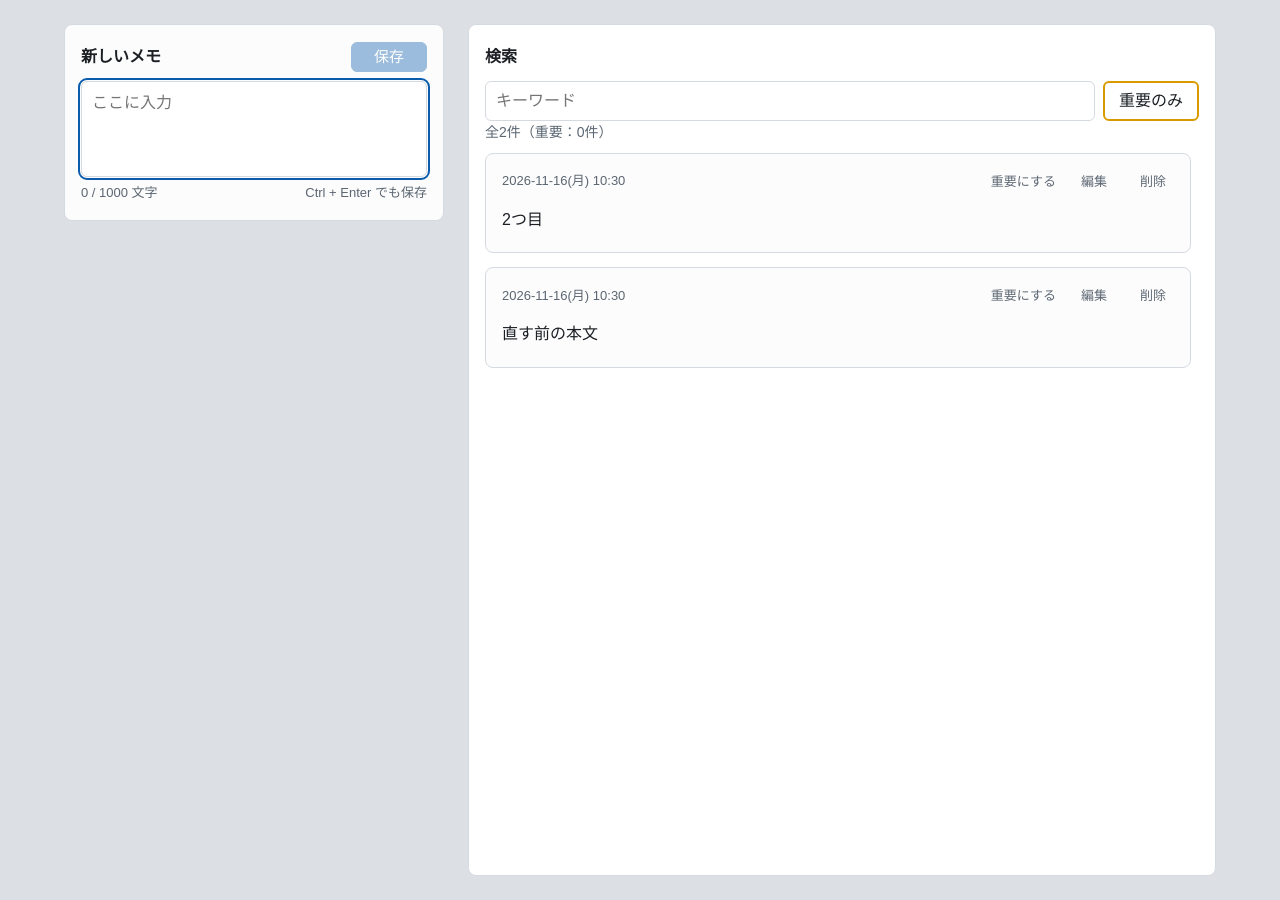
編集（F4） › 「編集」を押すとその場で入力欄になり、「保存」で本文が変わる（前後の空白は取り除く）
Expected: the text "直す前の本文" is shown, left=502, top=325, right=598, bottom=342
Step 1. Click the 2nd button "編集" → point(1094, 296), box left=1070, top=283, right=1118, bottom=309
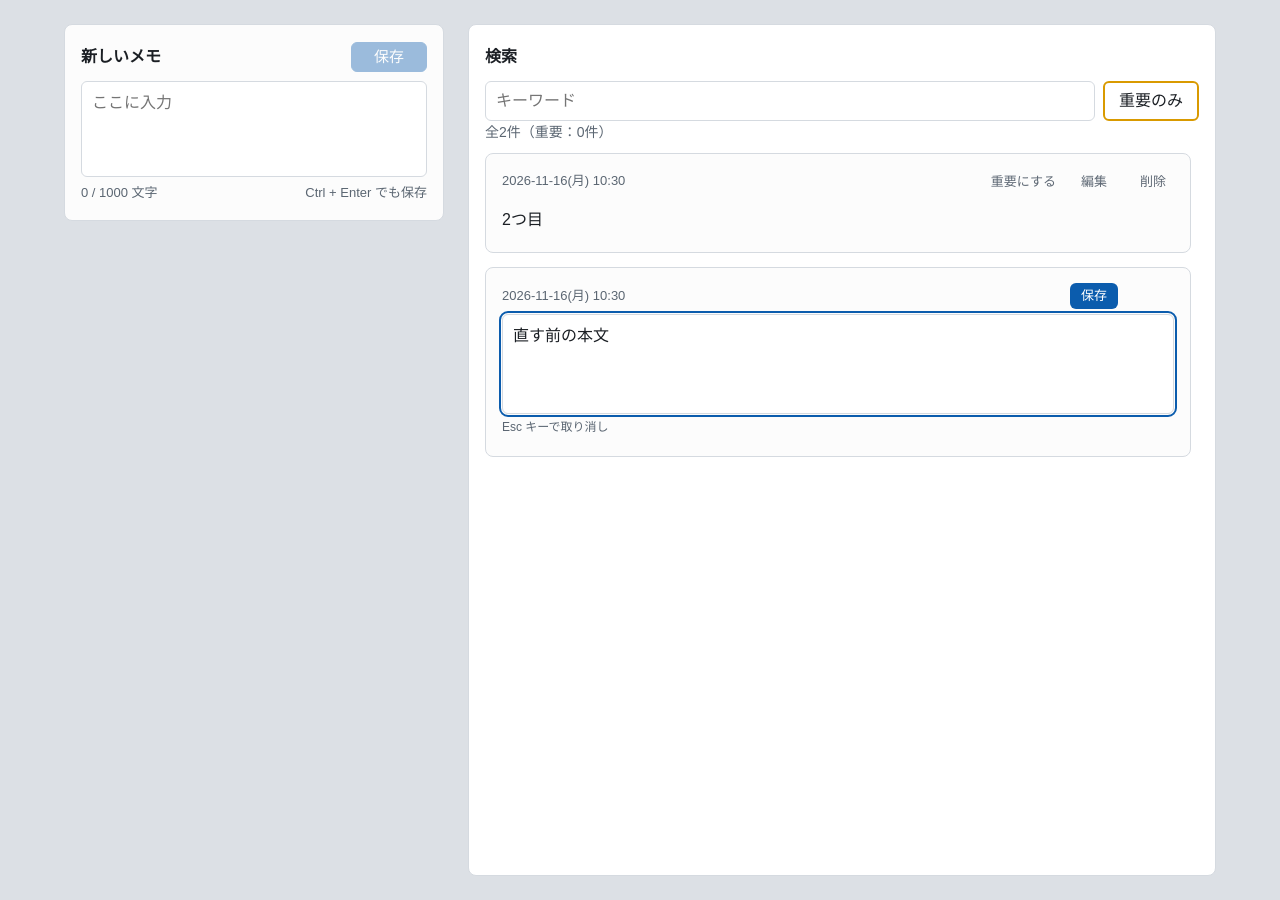
Expected: the number of buttons "編集" is 1, left=1070, top=169, right=1118, bottom=195
Now the text box named "メモの本文を編集" holds "直す前の本文"
Now the text "Esc キーで取り消し" is shown, box left=502, top=420, right=609, bottom=434
Step 2. Replace the text in the text box named "メモの本文を編集" with "  直した後の本文  " → point(838, 364), box left=502, top=314, right=1174, bottom=414
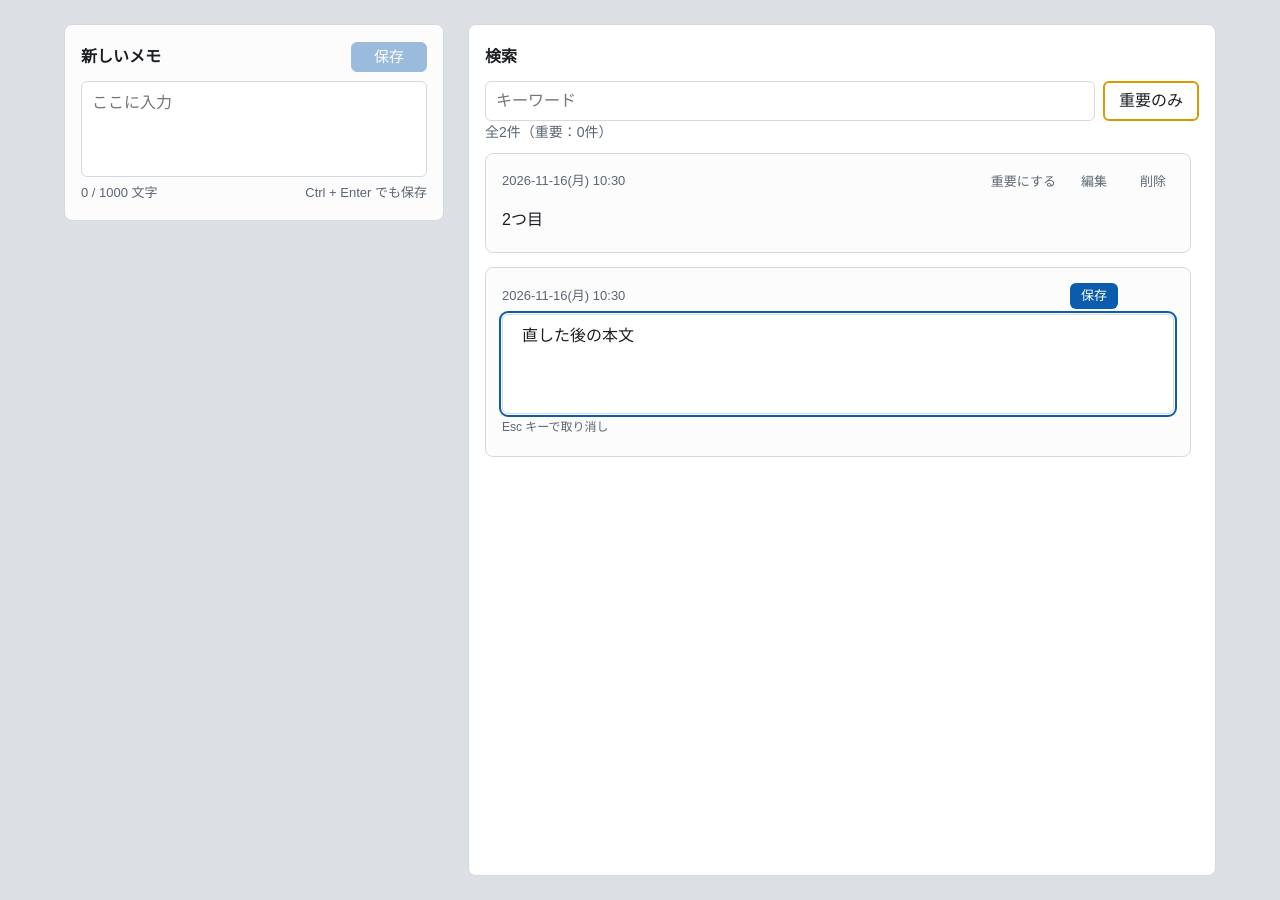
Step 3. Click the 2nd button "保存" → point(1094, 296), box left=1070, top=283, right=1118, bottom=309
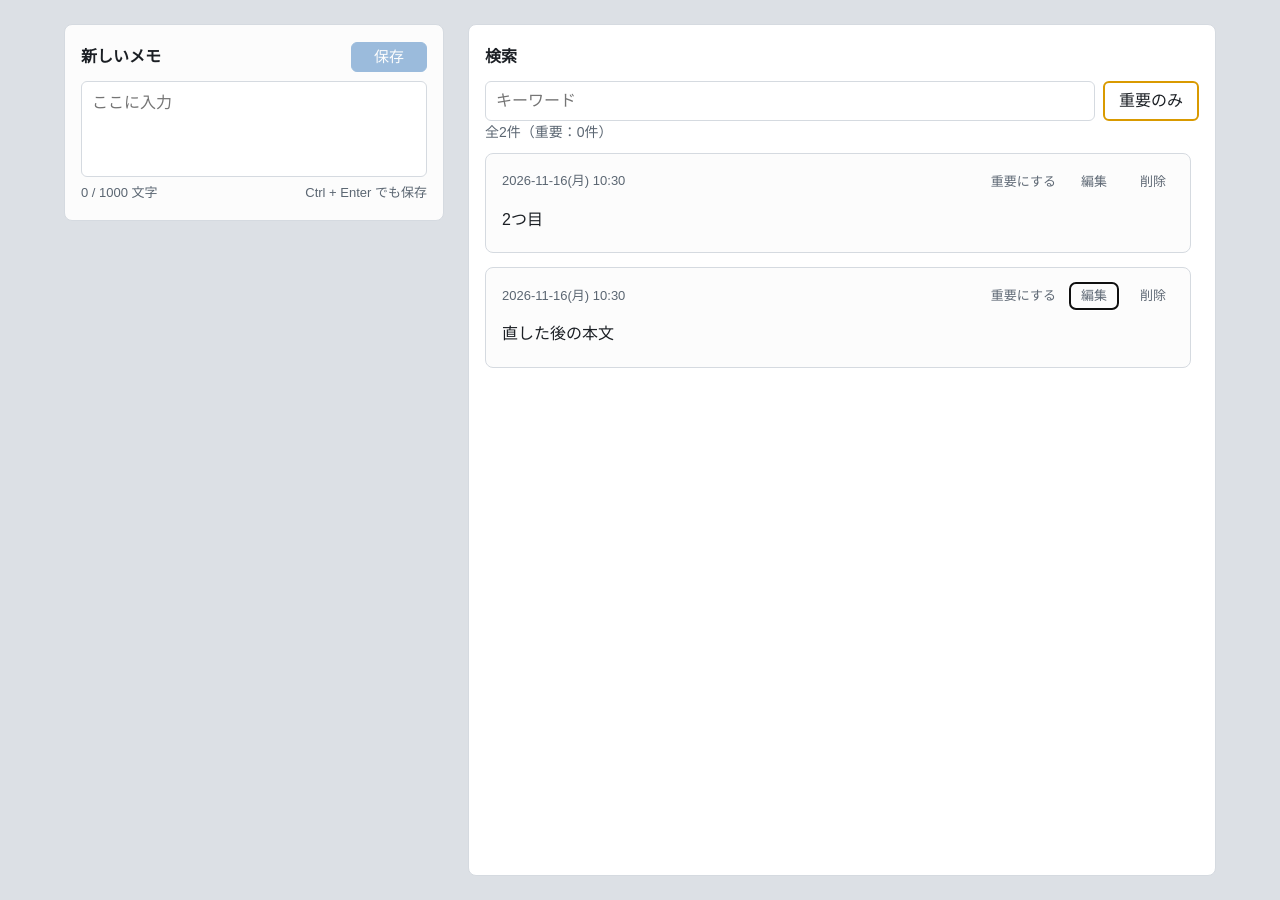
Expected: the element showing "2026-11-16(月) 10:30 重要にする 編集 削除 2つ目" is shown, left=485, top=153, right=1191, bottom=253
Now the text "直した後の本文" is shown, box left=502, top=325, right=614, bottom=342
Now the text box labelled "メモの本文を編集" is gone
